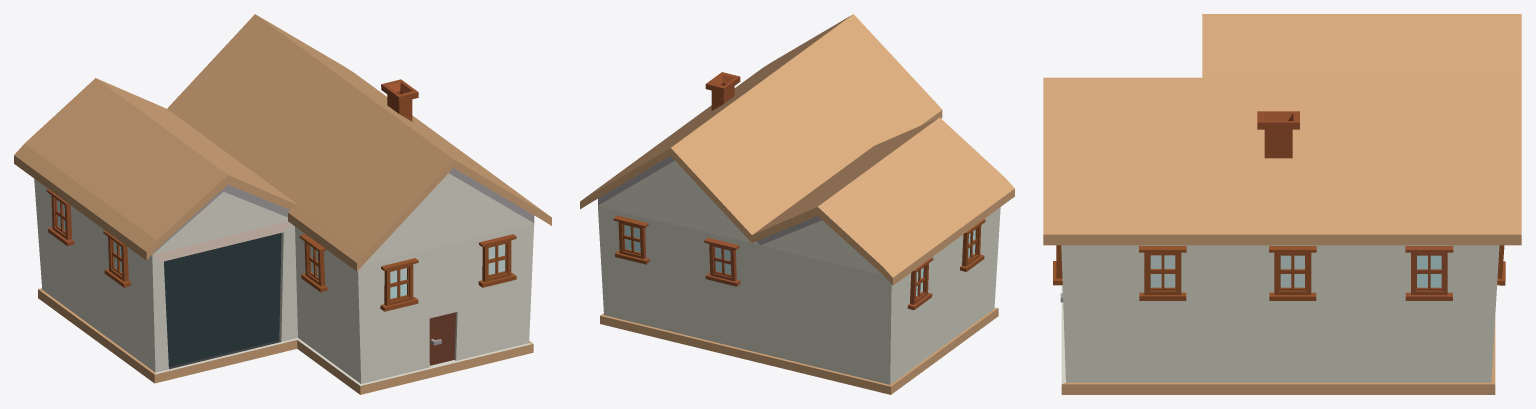
Rendered from hut-b.glb.
The picture shows the model from 3 angles, left to right: view 1: azimuth 30°, elevation 25°; view 2: azimuth 150°, elevation 25°; view 3: azimuth 270°, elevation 25°; orthographic projection. The views are drawn at different scales.
Parts seen in each view (by area): view 1: House5_Cube.000; view 2: House5_Cube.000; view 3: House5_Cube.000.
Boxes of the visible parts, left/top/right/bottom form: House5_Cube.000: left=14, top=14, right=551, bottom=394; House5_Cube.000: left=580, top=14, right=1014, bottom=394; House5_Cube.000: left=1043, top=14, right=1521, bottom=394.
Size of the model in its own units: 2.16 by 1.34 by 2.19.
1 material, 1 textured.
